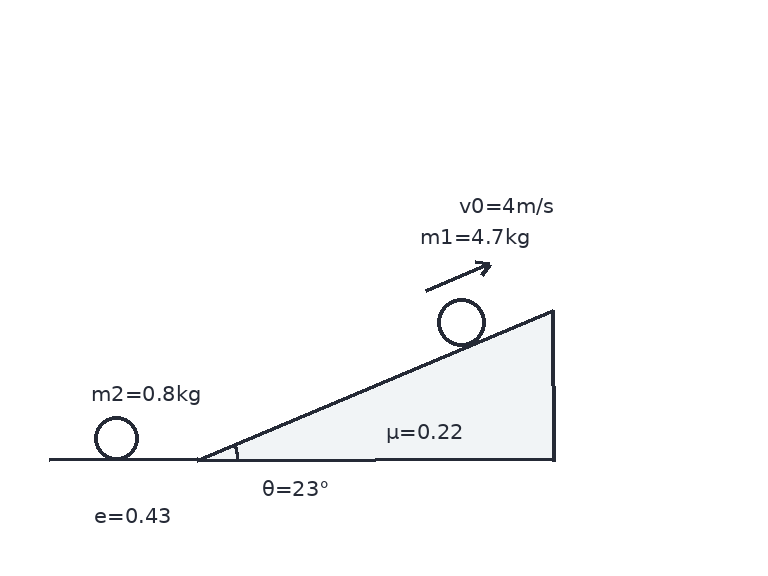ball: (435, 296, 487, 348), (92, 414, 140, 462)
ramp: (195, 307, 554, 462)
